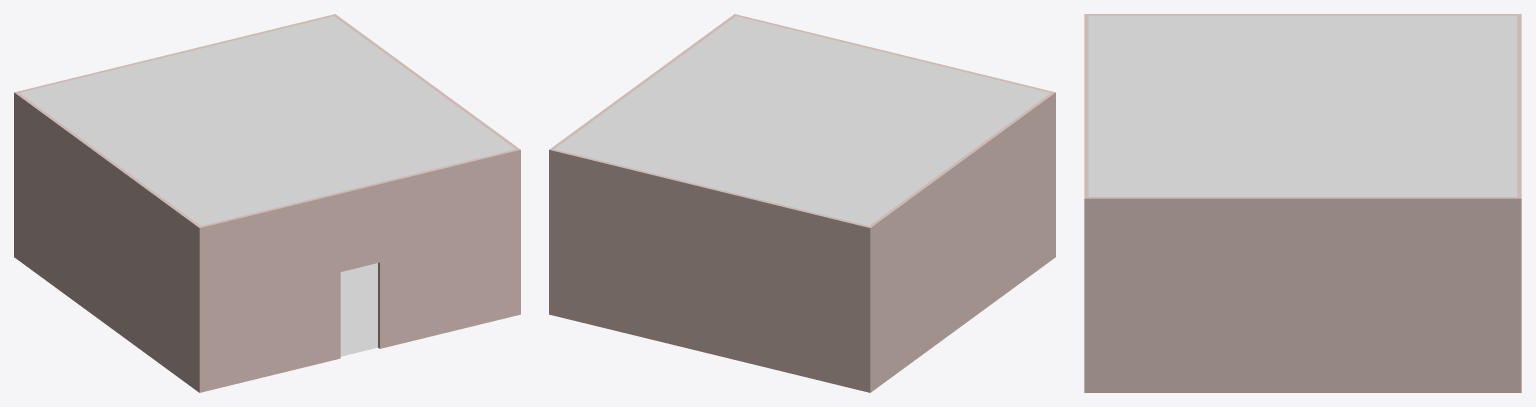
Rendered from room.fbx.
The picture shows the model from 3 angles, left to right: view 1: azimuth 30°, elevation 25°; view 2: azimuth 150°, elevation 25°; view 3: azimuth 270°, elevation 25°; orthographic projection. The views are drawn at different scales.
Visible parts, largest first — view 1: Room, Ceiling, Floor; view 2: Room, Ceiling; view 3: Room, Ceiling.
Boxes of the visible parts, x1=… form: Room: x1=14, y1=14, x2=520, y2=392; Ceiling: x1=19, y1=16, x2=515, y2=225; Floor: x1=340, y1=263, x2=377, y2=356; Room: x1=549, y1=14, x2=1055, y2=392; Ceiling: x1=554, y1=16, x2=1050, y2=225; Room: x1=1084, y1=14, x2=1521, y2=392; Ceiling: x1=1088, y1=15, x2=1517, y2=196.
Size of the model in its own units: 1020 by 500 by 1020.
